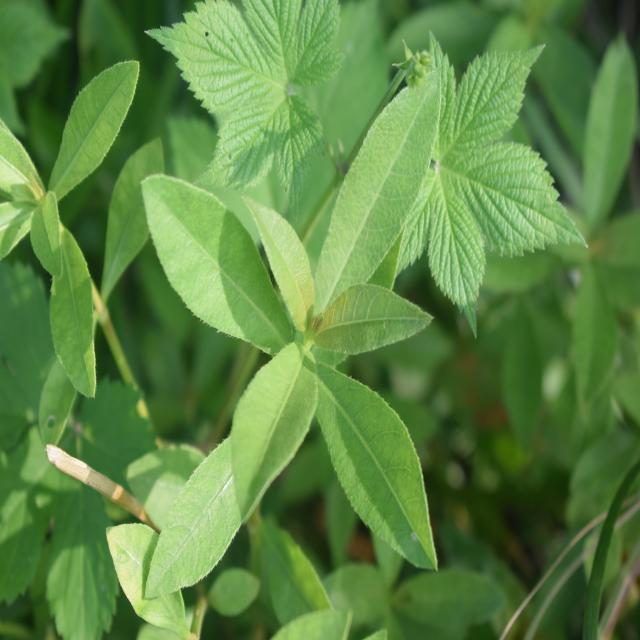Alligatorweed: (103, 154, 454, 551), (0, 98, 163, 392)
